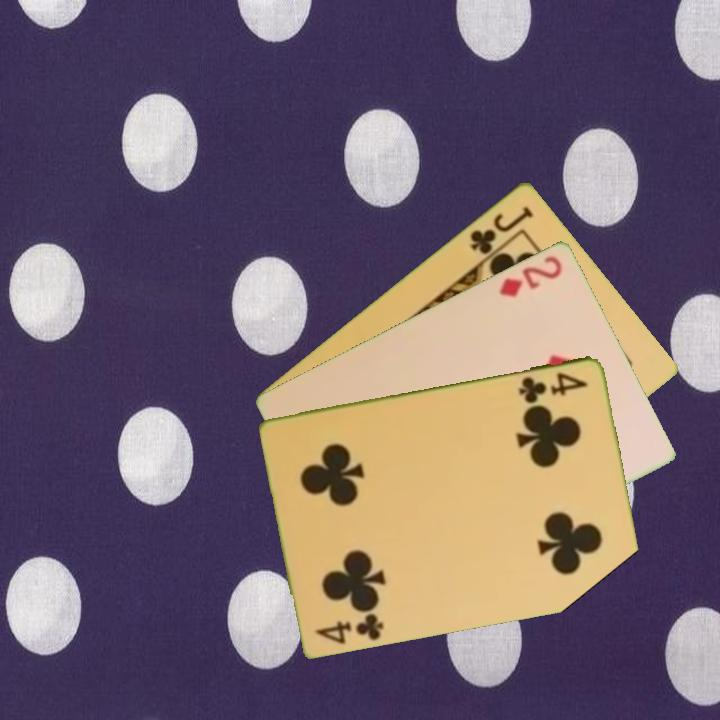2d: (495, 252, 566, 300)
4c: (515, 368, 591, 405), (312, 609, 387, 646)
Jc: (466, 202, 536, 257)
